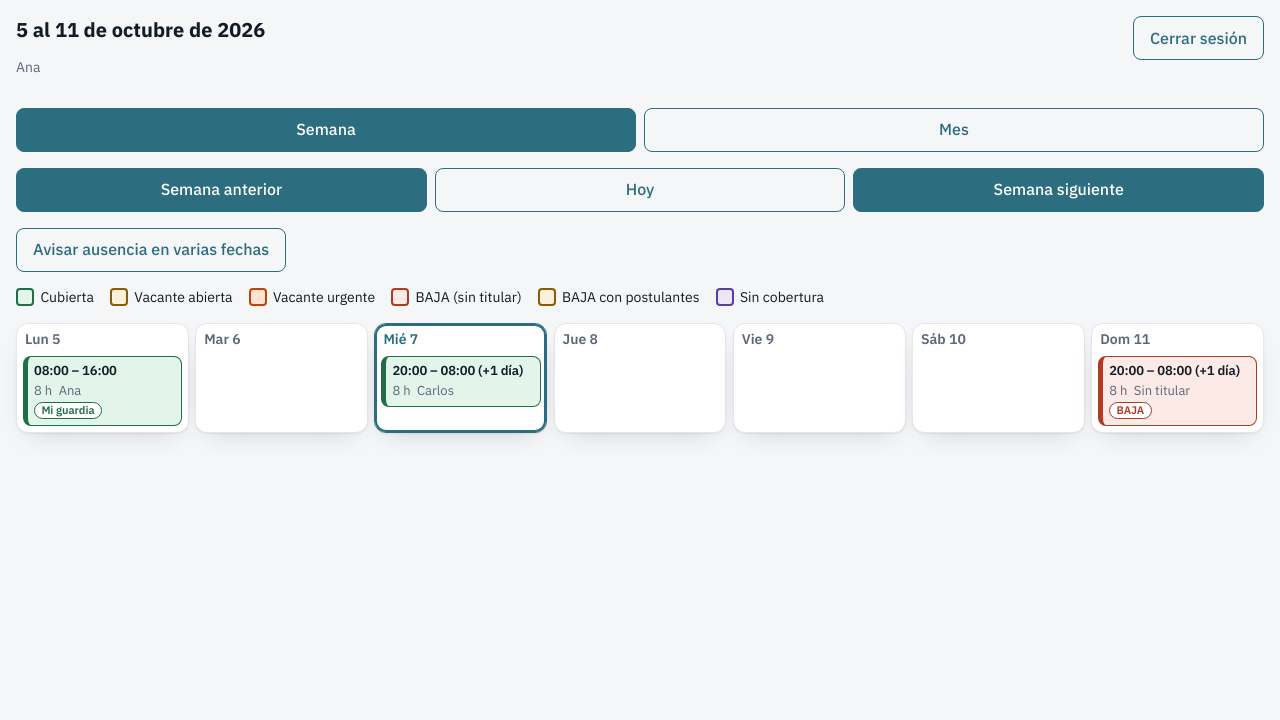
Test: Calendario del coordinador: panel de cobertura › vista mensual › se puede volver a la vista semanal
Expected: the heading "5 al 11 de octubre de 2026" is shown, [16,16,265,44]
Click the button "Mes": (954, 130) [644,108,1264,152]
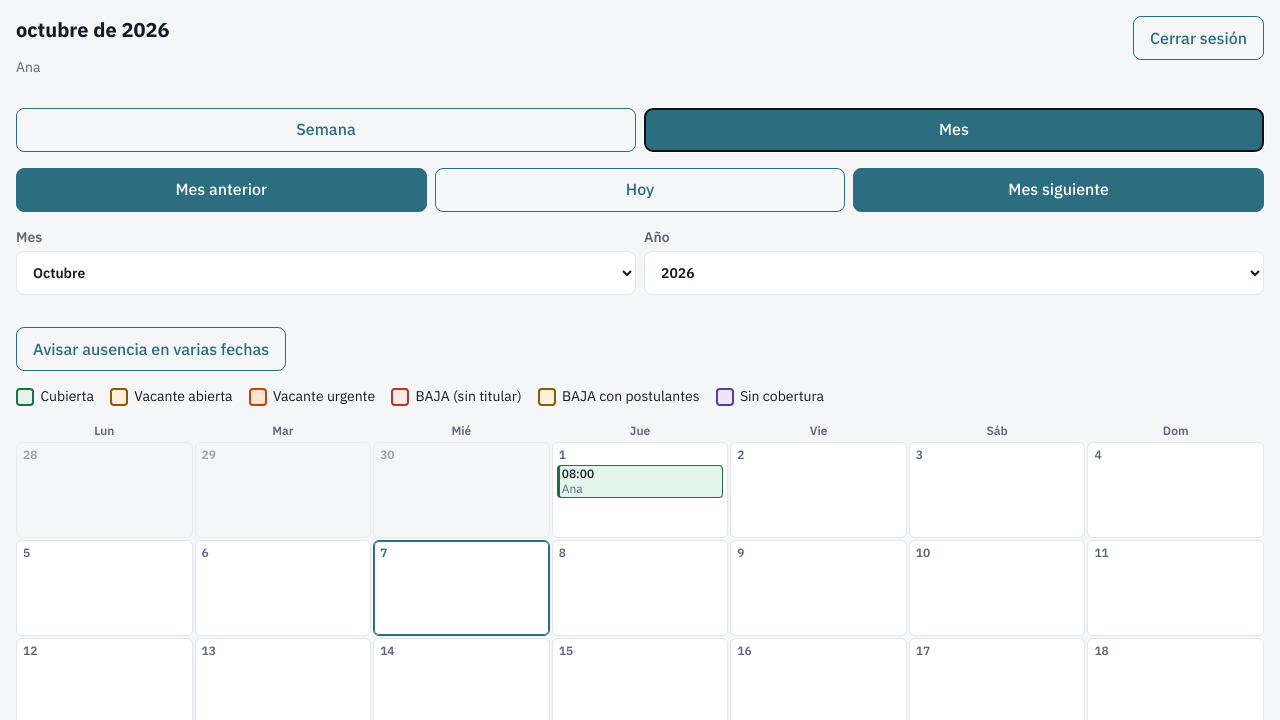
Click the button "Semana": (326, 130) [16,108,636,152]
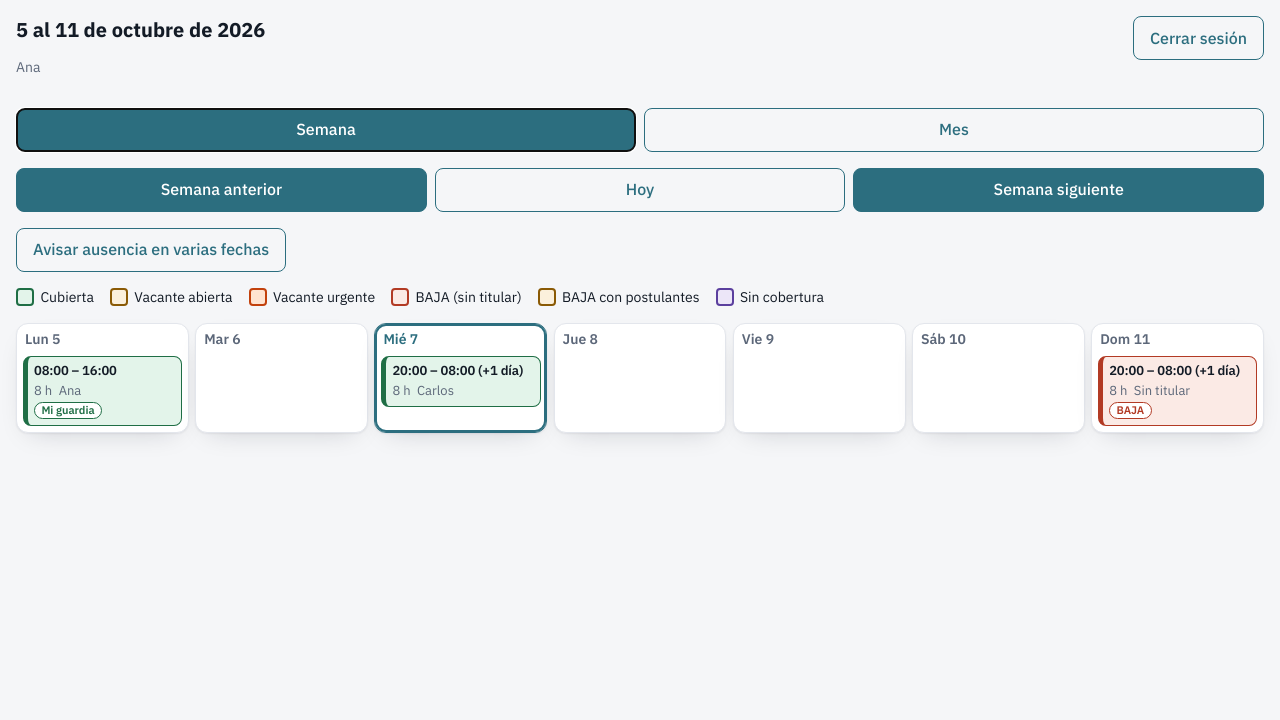
Now the heading "5 al 11 de octubre de 2026" is shown, box [16,16,265,44]
